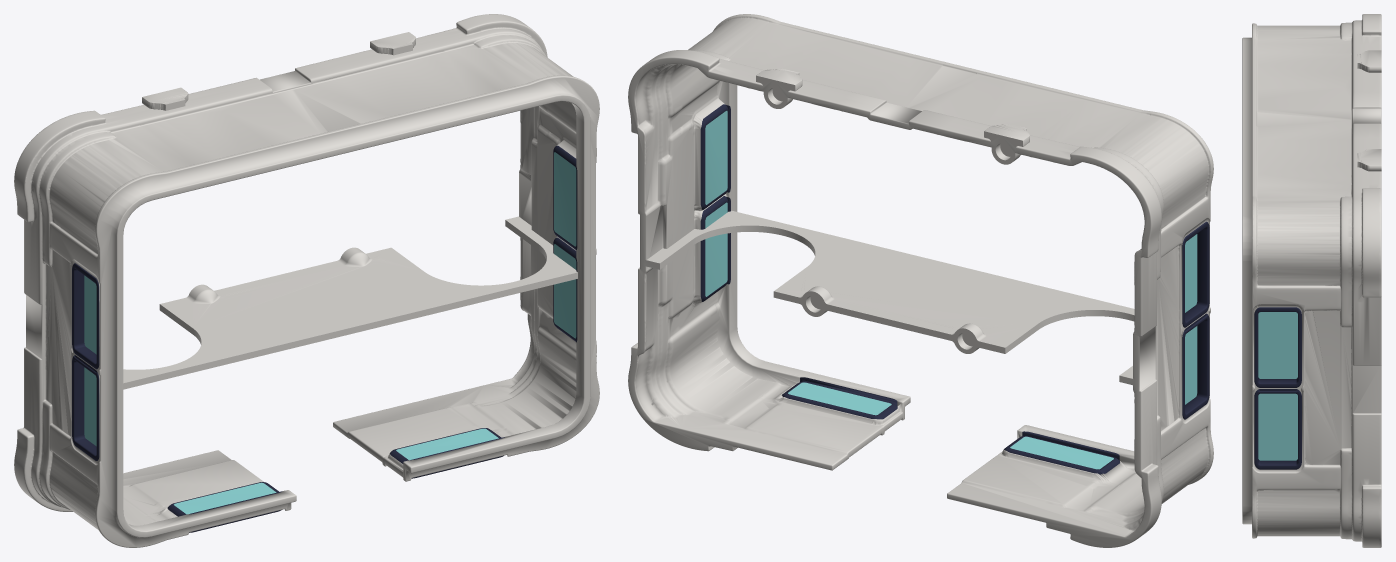
The model's file is PCW.glb.
The picture shows the model from 3 angles, left to right: view 1: azimuth 30°, elevation 25°; view 2: azimuth 150°, elevation 25°; view 3: azimuth 270°, elevation 25°; orthographic projection. The views are drawn at different scales.
Parts seen in each view (by area): view 1: PCW_white, PCW_cyan, PCW_dark; view 2: PCW_white, PCW_cyan, PCW_dark; view 3: PCW_white, PCW_cyan, PCW_dark.
Part boxes in pixels (x1,y1,x2,y2): PCW_white: (14, 14, 599, 547); PCW_cyan: (84, 152, 576, 514); PCW_dark: (72, 145, 577, 532); PCW_white: (628, 14, 1213, 547); PCW_cyan: (705, 110, 1197, 469); PCW_dark: (700, 104, 1209, 474); PCW_white: (1242, 14, 1381, 547); PCW_cyan: (1258, 312, 1297, 460); PCW_dark: (1254, 307, 1301, 469).
Size of the model in its own units: 276 by 196 by 71.5.
